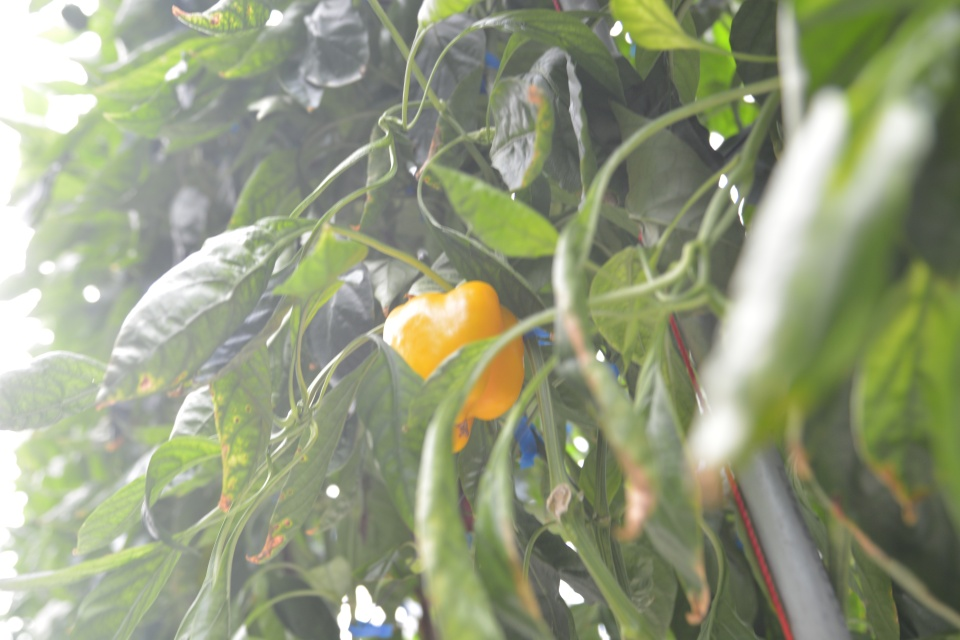fruit: (380, 282, 527, 456)
